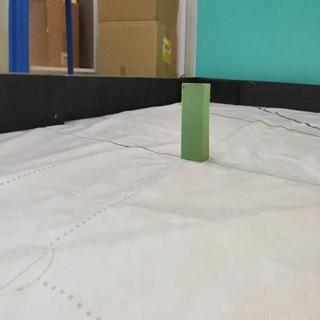greenbox: (180, 81, 211, 163)
